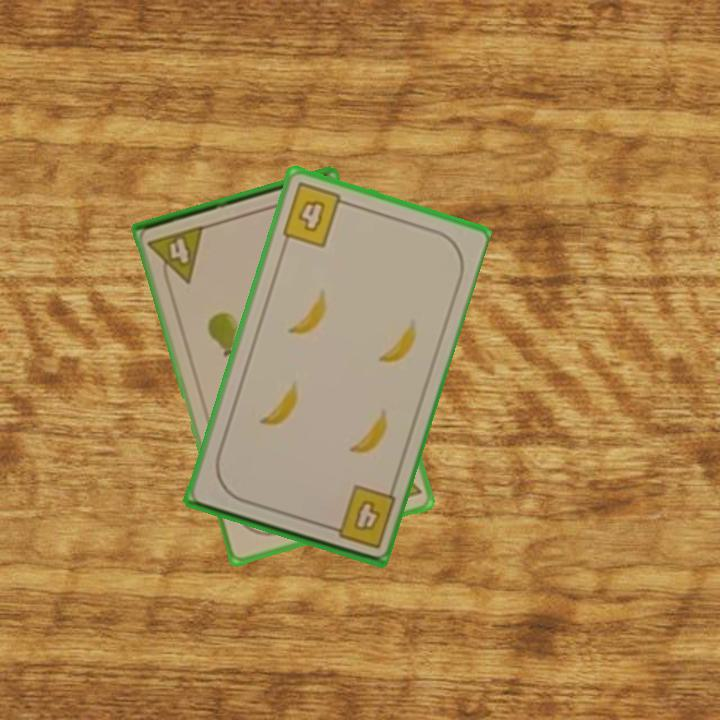4b: (321, 481, 398, 552), (278, 179, 353, 251)
4p: (145, 222, 208, 291)
